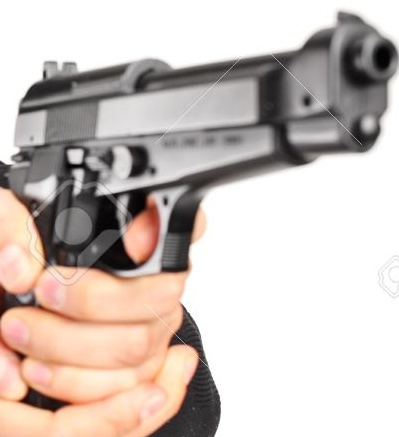pistol: (1, 10, 399, 282)
